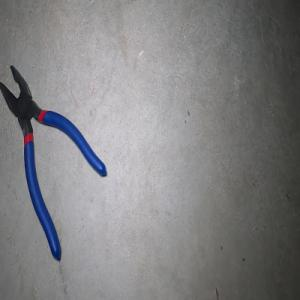Pliers: (0, 64, 106, 261)
